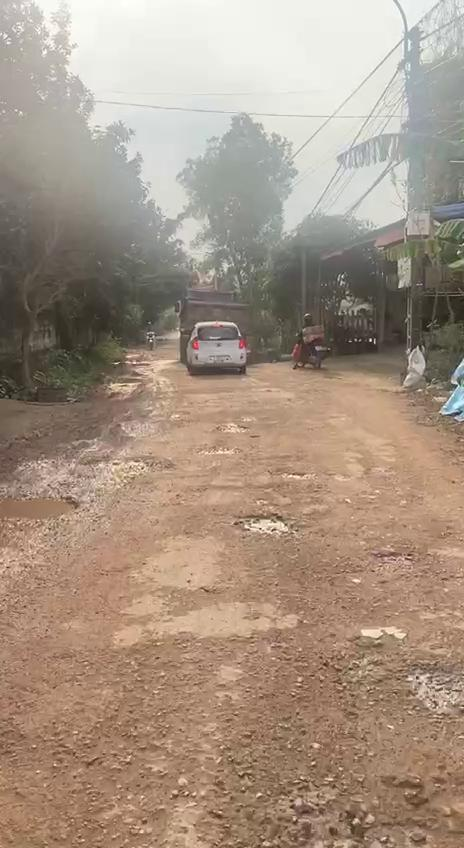pothole: (273, 779, 464, 848), (403, 658, 464, 725), (0, 490, 85, 522), (230, 511, 295, 539)
